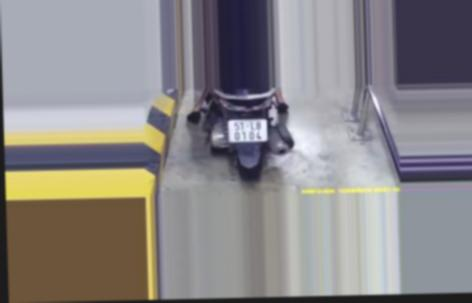License_Plate: (224, 117, 271, 147)
